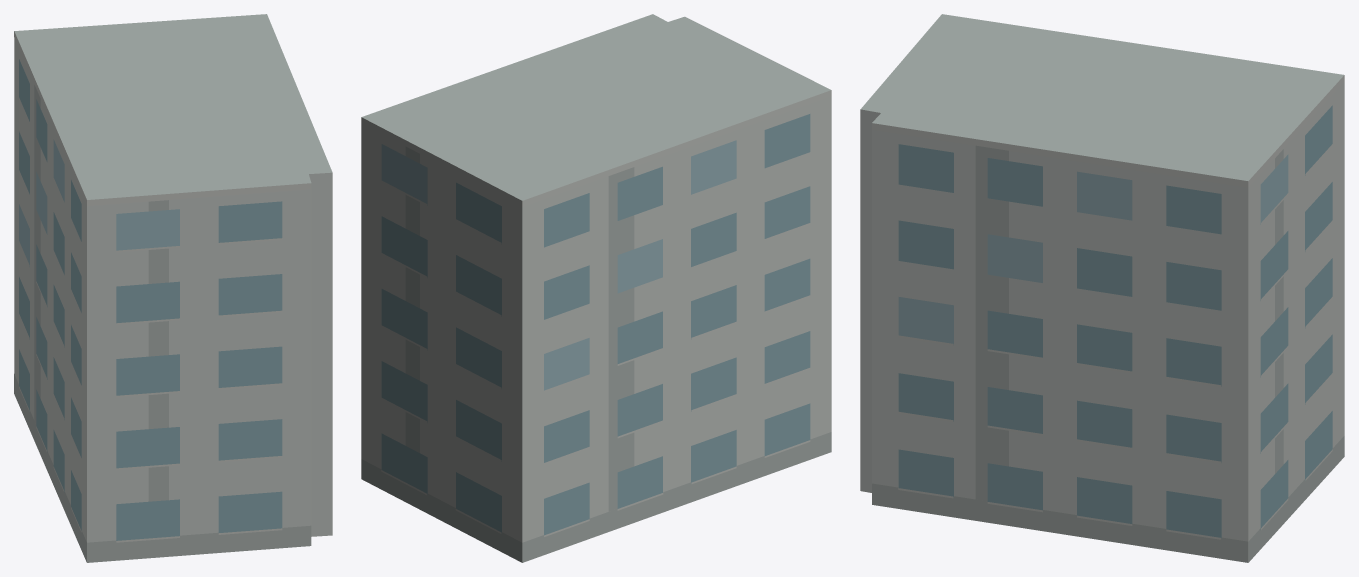
Rendered from survey-upis-32891078.glb.
The picture shows the model from 3 angles, left to right: view 1: azimuth 30°, elevation 25°; view 2: azimuth 150°, elevation 25°; view 3: azimuth 270°, elevation 25°; orthographic projection. The views are drawn at different scales.
Visible parts, largest first — view 1: survey-upis-32891078.tmp; view 2: survey-upis-32891078.tmp; view 3: survey-upis-32891078.tmp.
Part boxes in pixels (box(x1,y1,x2,y2)): survey-upis-32891078.tmp: box(14, 14, 332, 562); survey-upis-32891078.tmp: box(361, 14, 831, 562); survey-upis-32891078.tmp: box(860, 14, 1344, 562).
Bounding box in the file's own units: 13.35 × 14.2 × 16.33.
